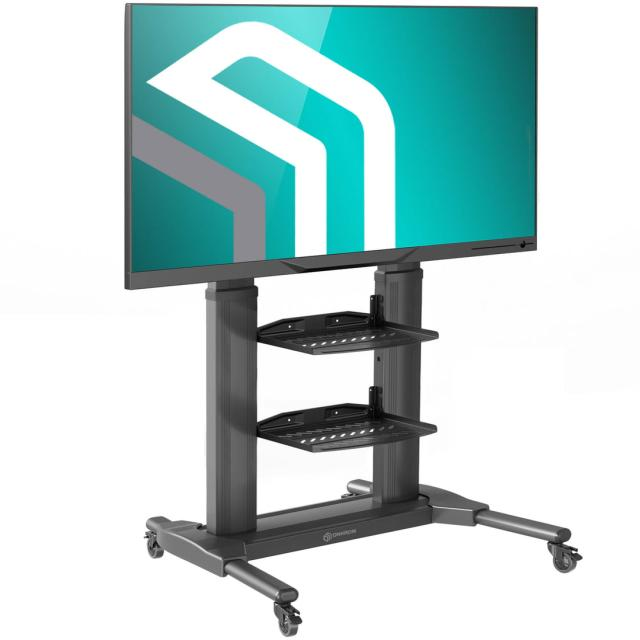electronics: (125, 5, 580, 635), (125, 5, 536, 288)
